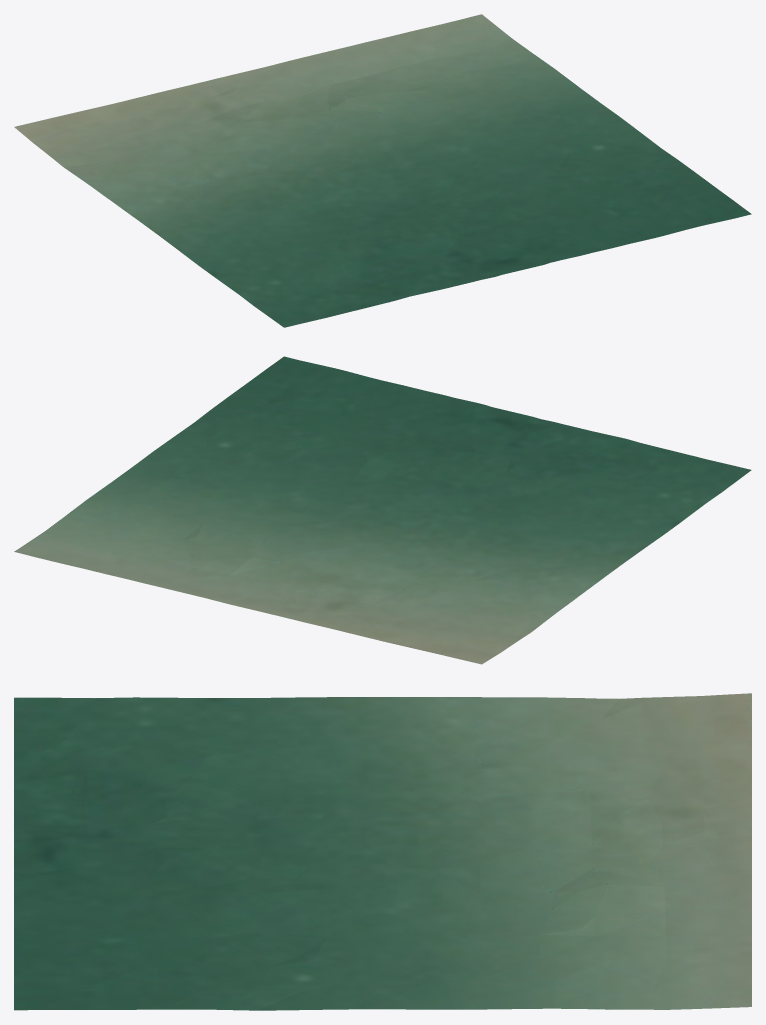
The picture shows the model from 3 angles, top to bottom: view 1: azimuth 30°, elevation 25°; view 2: azimuth 150°, elevation 25°; view 3: azimuth 270°, elevation 25°; orthographic projection. The views are drawn at different scales.
Size of the model in its own units: 52.22 by 0.4982 by 52.22.
3 materials, 3 textured.
